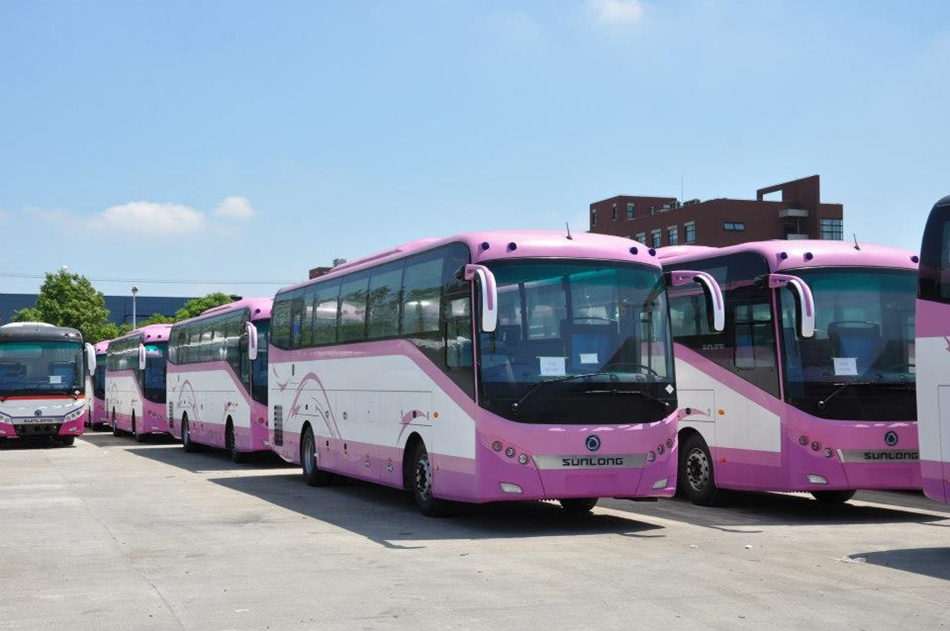bus: (264, 228, 678, 518)
